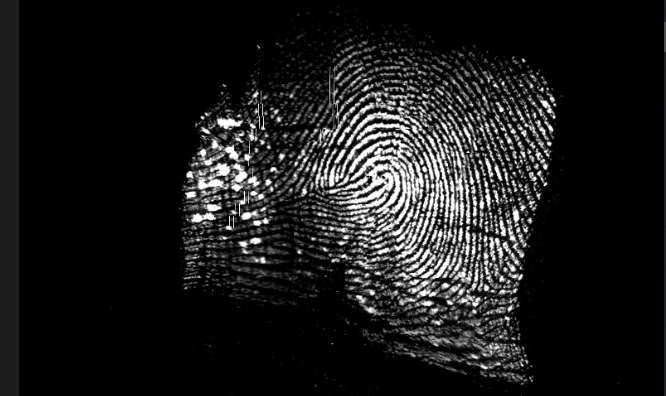deltas: (455, 263, 503, 311)
nucleo: (331, 144, 398, 201)
